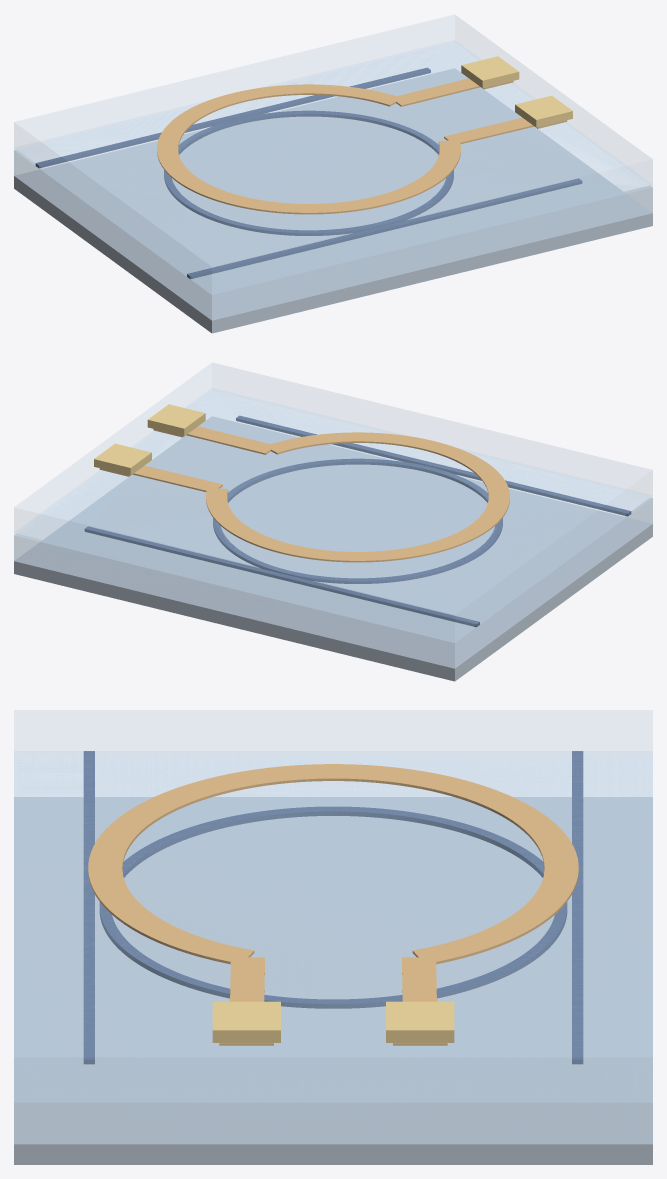
The model's file is stack-ring.glb.
The picture shows the model from 3 angles, top to bottom: view 1: azimuth 30°, elevation 25°; view 2: azimuth 150°, elevation 25°; view 3: azimuth 270°, elevation 25°; orthographic projection. The views are drawn at different scales.
Parts seen in each view (by area): view 1: cladd, sisub, box, tin18, siwg, metal1; view 2: cladd, sisub, box, tin18, siwg, metal1; view 3: cladd, sisub, box, tin18, siwg, metal1.
Boxes of the visible parts, x1=… form: cladd: x1=14, y1=15, x2=652, y2=294; sisub: x1=14, y1=68, x2=652, y2=333; box: x1=14, y1=43, x2=652, y2=320; tin18: x1=157, y1=78, x2=567, y2=214; siwg: x1=35, y1=67, x2=582, y2=279; metal1: x1=461, y1=56, x2=572, y2=127; cladd: x1=14, y1=363, x2=652, y2=642; sisub: x1=14, y1=416, x2=652, y2=681; box: x1=14, y1=391, x2=652, y2=668; tin18: x1=99, y1=426, x2=509, y2=562; siwg: x1=84, y1=415, x2=631, y2=627; metal1: x1=94, y1=404, x2=205, y2=475; cladd: x1=14, y1=710, x2=652, y2=1101; sisub: x1=14, y1=797, x2=652, y2=1164; box: x1=14, y1=756, x2=652, y2=1143; tin18: x1=88, y1=764, x2=578, y2=1045; siwg: x1=83, y1=751, x2=583, y2=1064; metal1: x1=212, y1=1001, x2=454, y2=1042.
Bounding box in the file's own units: 36 × 5.8 × 28.
